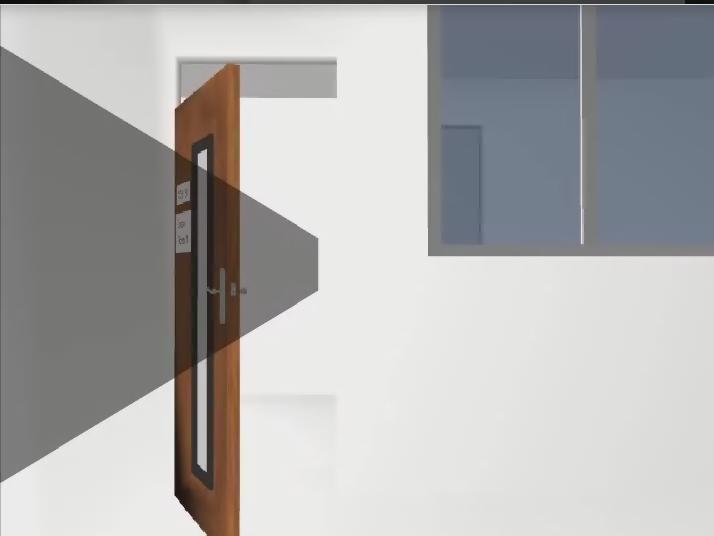door: (174, 64, 239, 536)
